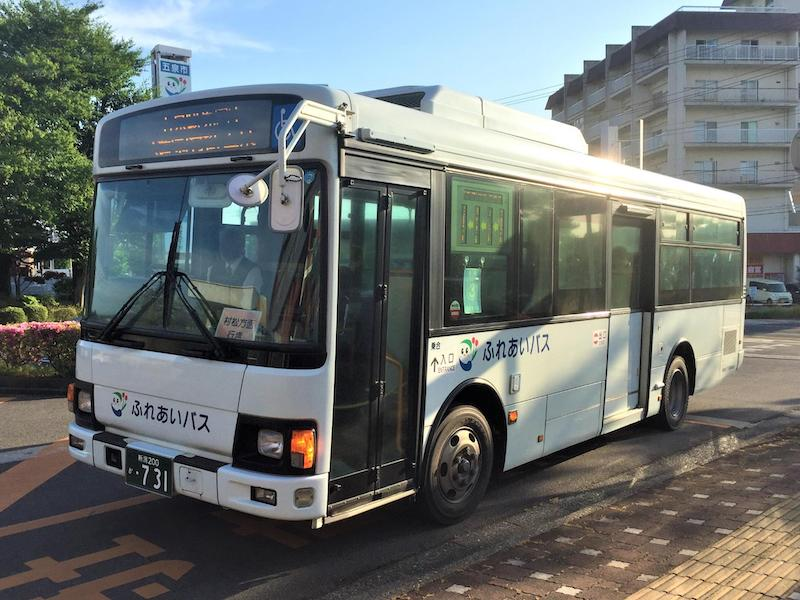destination: (117, 96, 270, 161)
